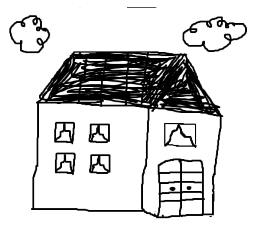clouds: (178, 5, 254, 54), (7, 10, 53, 59)
door: (153, 150, 212, 224)
open_window: (158, 121, 204, 151), (50, 116, 76, 149), (87, 151, 113, 183), (53, 147, 79, 176), (84, 120, 113, 144)
shaded_roof: (22, 49, 243, 117)
wall: (29, 101, 151, 216), (137, 105, 228, 220)
